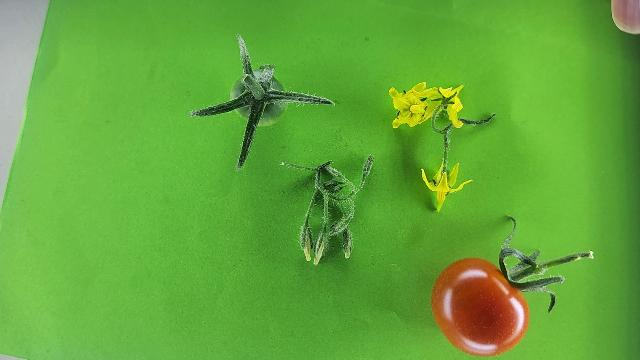Anthesis: (421, 159, 472, 213), (389, 81, 436, 128), (422, 83, 468, 128)
Flower Bud: (315, 241, 325, 263), (344, 231, 352, 258), (304, 245, 311, 261)
Fruit Maturation: (231, 69, 287, 126)
Fully Grown: (429, 256, 531, 357)
